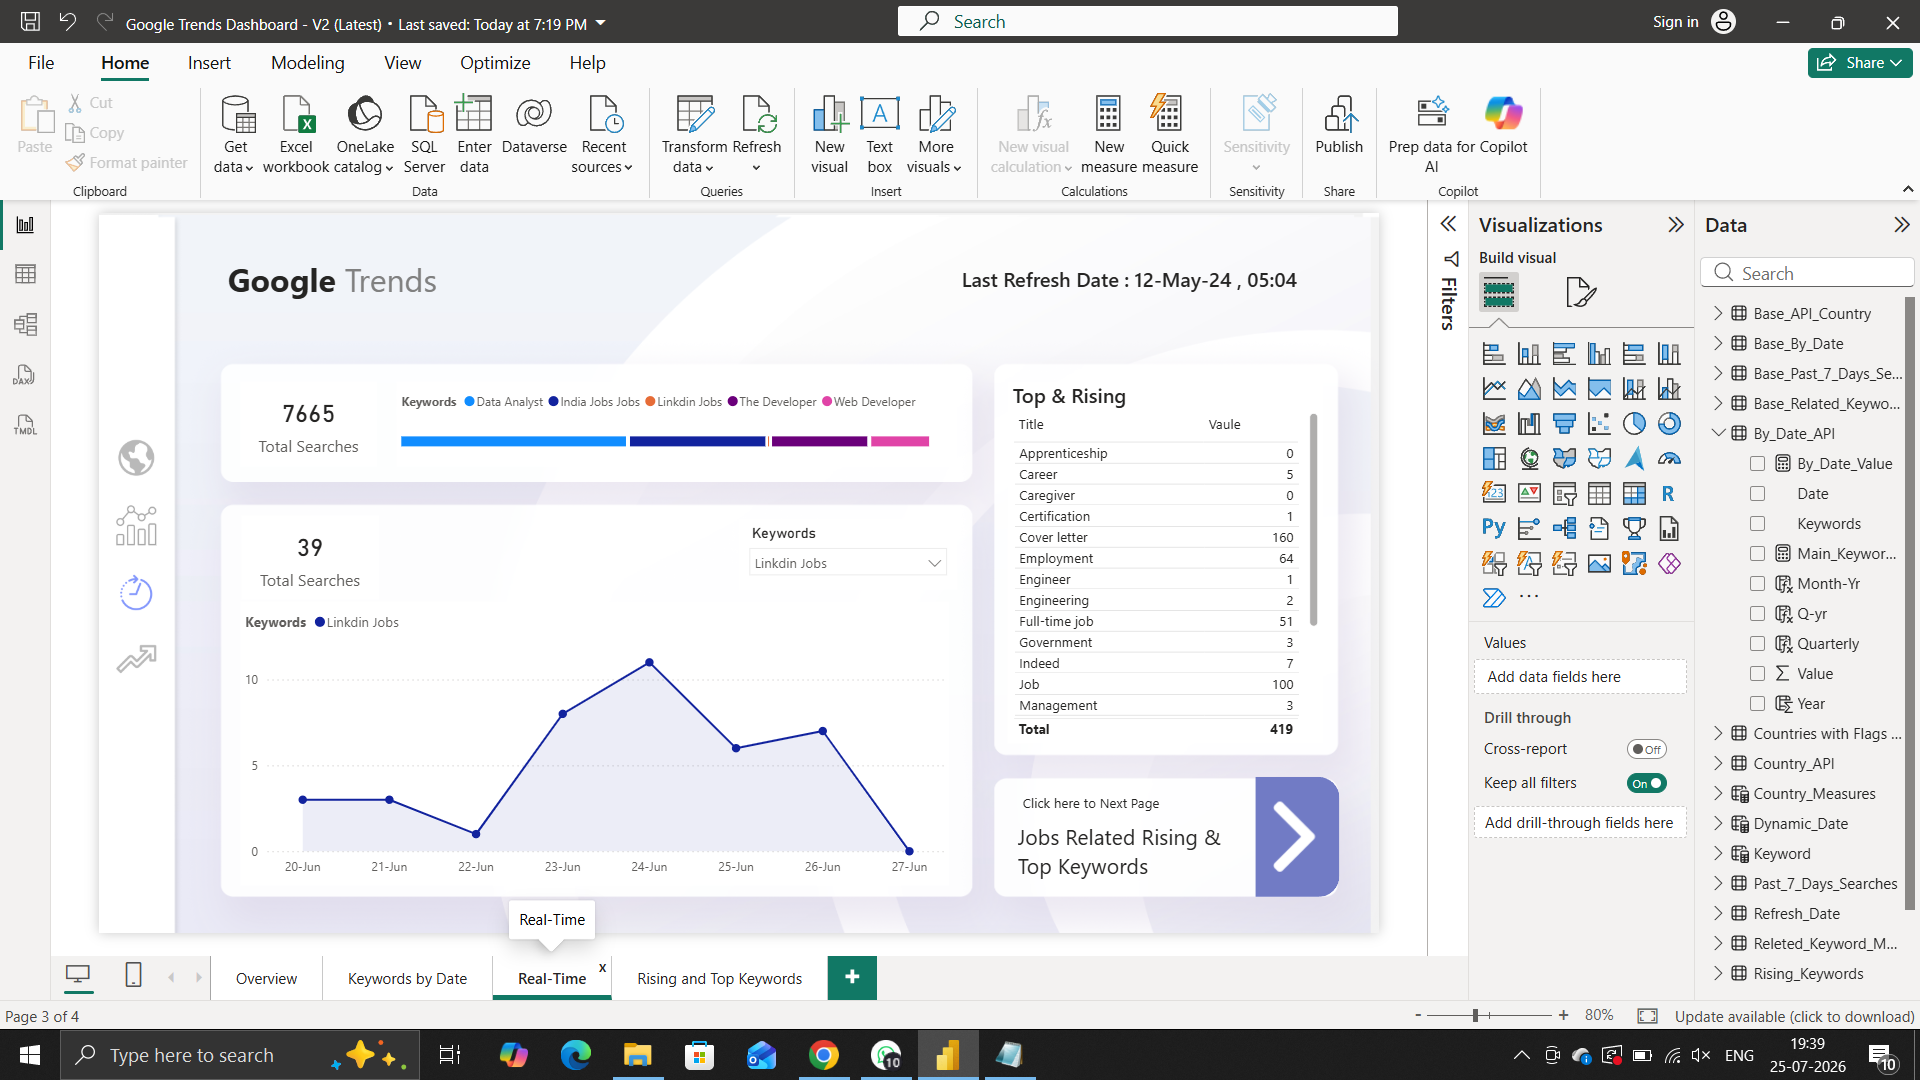

This screenshot's page, from the dashboard's own definition file:
{"tool":"powerbi","page":{"name":"Real-Time","canvas":[1280,720],"ordinal":2},"visuals":[{"type":"areaChart","fields":{"Y":["Past_7_Days_Searches.Last_7_Days_Value"],"Series":["Past_7_Days_Searches.Keywords"],"Category":["Past_7_Days_Searches.New_Date"]},"box":[141.8,388.8,709.1,283.6],"z":0},{"type":"slicer","fields":{"Values":["Past_7_Days_Searches.Keywords"]},"box":[640.5,305.9,218.3,70.1],"z":1000},{"type":"card","fields":{"Values":["Past_7_Days_Searches.Last_7_Days_Value"]},"box":[142.1,303,137.4,84.3],"z":2000},{"type":"card","fields":{"Values":["Past_7_Days_Searches.Last_7_Days_Value"]},"box":[141.8,168.9,137,84.4],"z":3000},{"type":"barChart","fields":{"Y":["Past_7_Days_Searches.Last_7_Days_Value"],"Series":["Keyword.Keywords"]},"box":[298,168.9,560.9,84.4],"z":4000},{"type":"textbox","box":[918.8,576.3,237.4,43],"z":5000},{"type":"actionButton","box":[1155.7,563.8,84.3,120.3],"z":6000},{"type":"shape","box":[918.8,595.4,237.4,84.4],"z":7000},{"type":"tableEx","title":"Top & Rising","fields":{"Values":["Top_Rising.Title","Sum(Top_Rising.Vaule)"]},"box":[908.2,168.9,315.5,361.7],"z":8000},{"type":"textbox","box":[123.4,40.6,313.9,67.2],"z":9000},{"type":"card","fields":{"Values":["Min(Refresh_Date.Refresh_Date)"]},"box":[842.9,39.8,376,55.8],"z":10000},{"type":"image","box":[12.6,287.1,50,50],"z":11000},{"type":"image","box":[12.6,421.8,50,50],"z":12000},{"type":"image","box":[12.6,354.4,50,50],"z":13000},{"type":"image","box":[12.6,219.7,50,50],"z":14000}]}

Visuals, with their boxes on the page's 1280x720 design canvas (x1, y1, x2, y2). These are canvas units, not pixel positions in the 1920x1080 screenshot, which may show the page scaled, cropped or inside an application window:
areaChart - Past_7_Days_Searches.Last_7_Days_Value x Past_7_Days_Searches.Keywords: (left=142, top=389, right=851, bottom=672)
slicer - Past_7_Days_Searches.Keywords: (left=640, top=306, right=859, bottom=376)
card - Past_7_Days_Searches.Last_7_Days_Value: (left=142, top=303, right=280, bottom=387)
card - Past_7_Days_Searches.Last_7_Days_Value: (left=142, top=169, right=279, bottom=253)
barChart - Past_7_Days_Searches.Last_7_Days_Value x Keyword.Keywords: (left=298, top=169, right=859, bottom=253)
textbox: (left=919, top=576, right=1156, bottom=619)
actionButton: (left=1156, top=564, right=1240, bottom=684)
shape: (left=919, top=595, right=1156, bottom=680)
"Top & Rising" tableEx: (left=908, top=169, right=1224, bottom=531)
textbox: (left=123, top=41, right=437, bottom=108)
card - Min(Refresh_Date.Refresh_Date): (left=843, top=40, right=1219, bottom=96)
image: (left=13, top=287, right=63, bottom=337)
image: (left=13, top=422, right=63, bottom=472)
image: (left=13, top=354, right=63, bottom=404)
image: (left=13, top=220, right=63, bottom=270)
